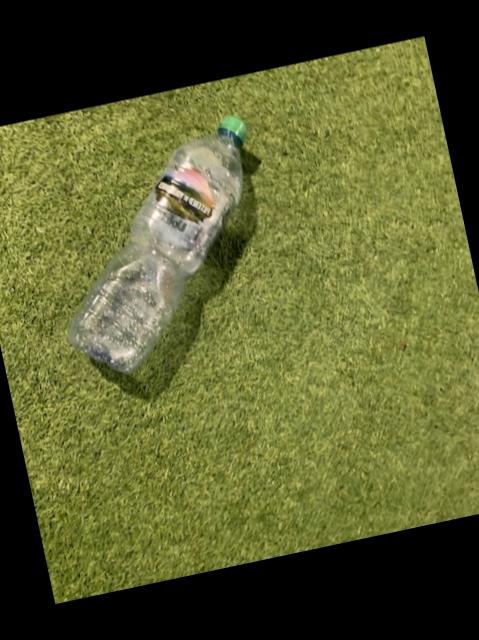plastic: (69, 118, 247, 373)
